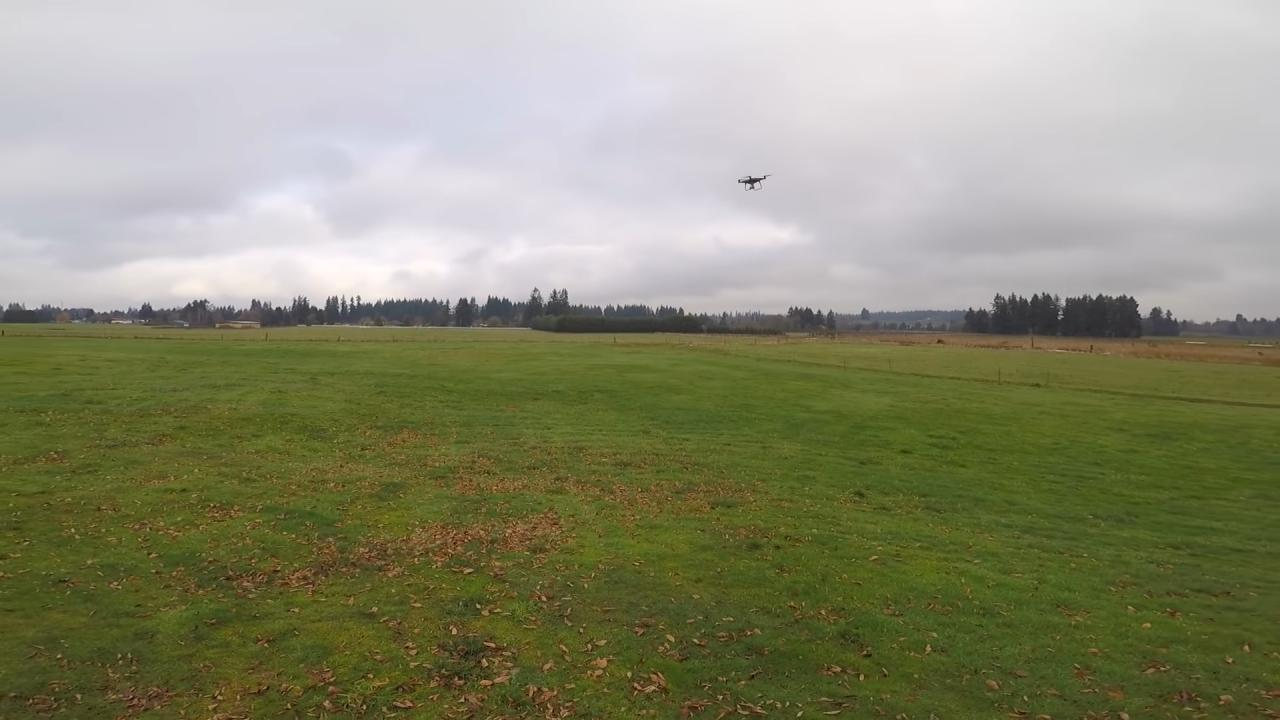Drone: (727, 167, 777, 197)
